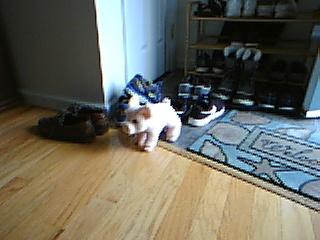piggy: (121, 93, 182, 153)
